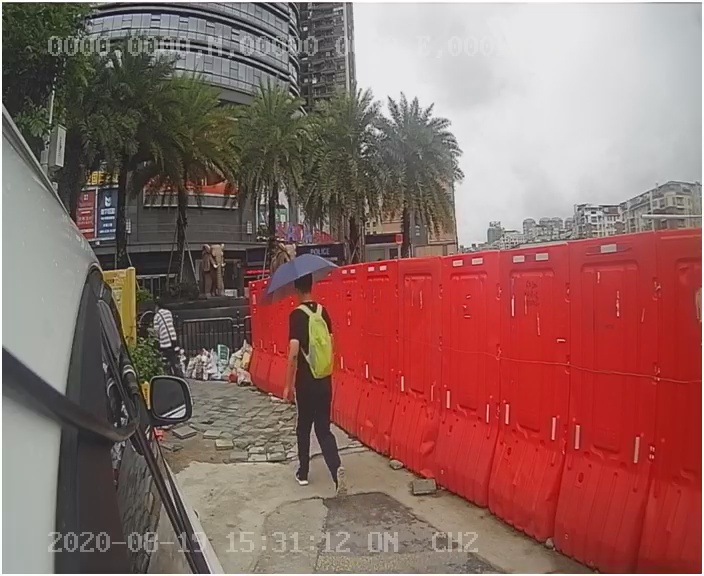person: (276, 272, 362, 494)
